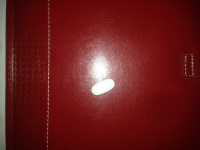Centik Buskopan: (90, 77, 115, 96)
